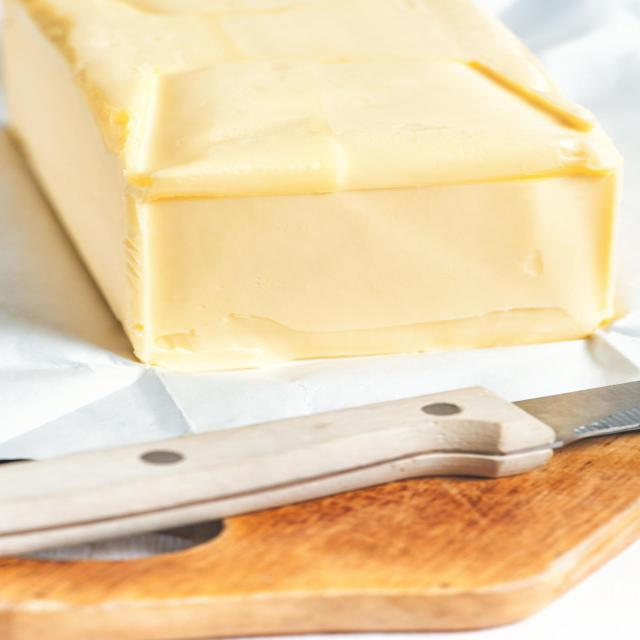butter: (1, 0, 624, 413)
